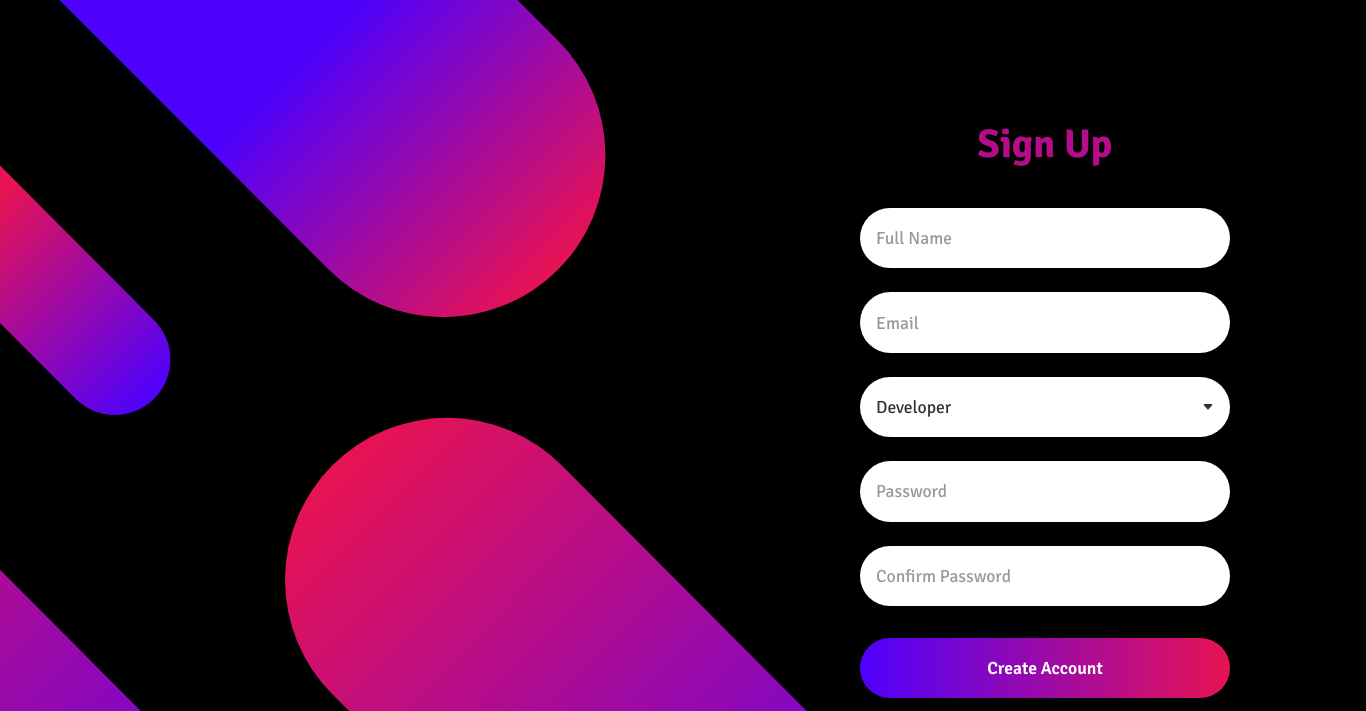
Scenario: Registration Page Tests › should show error when passwords do not match
Type "Test User" into the field named "name" at (1045, 238), box [860,208,1230,268]
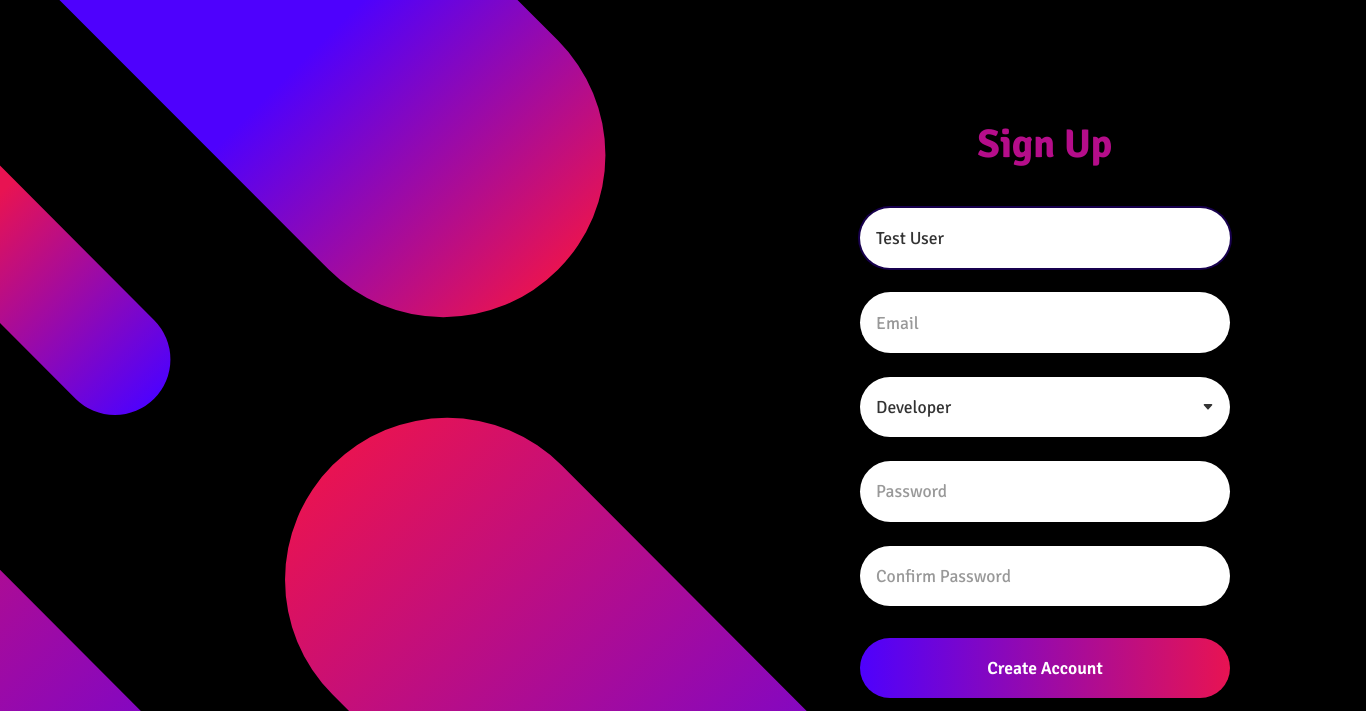
Type "test@example.com" into the field named "email" at (1045, 322), box [860,292,1230,352]
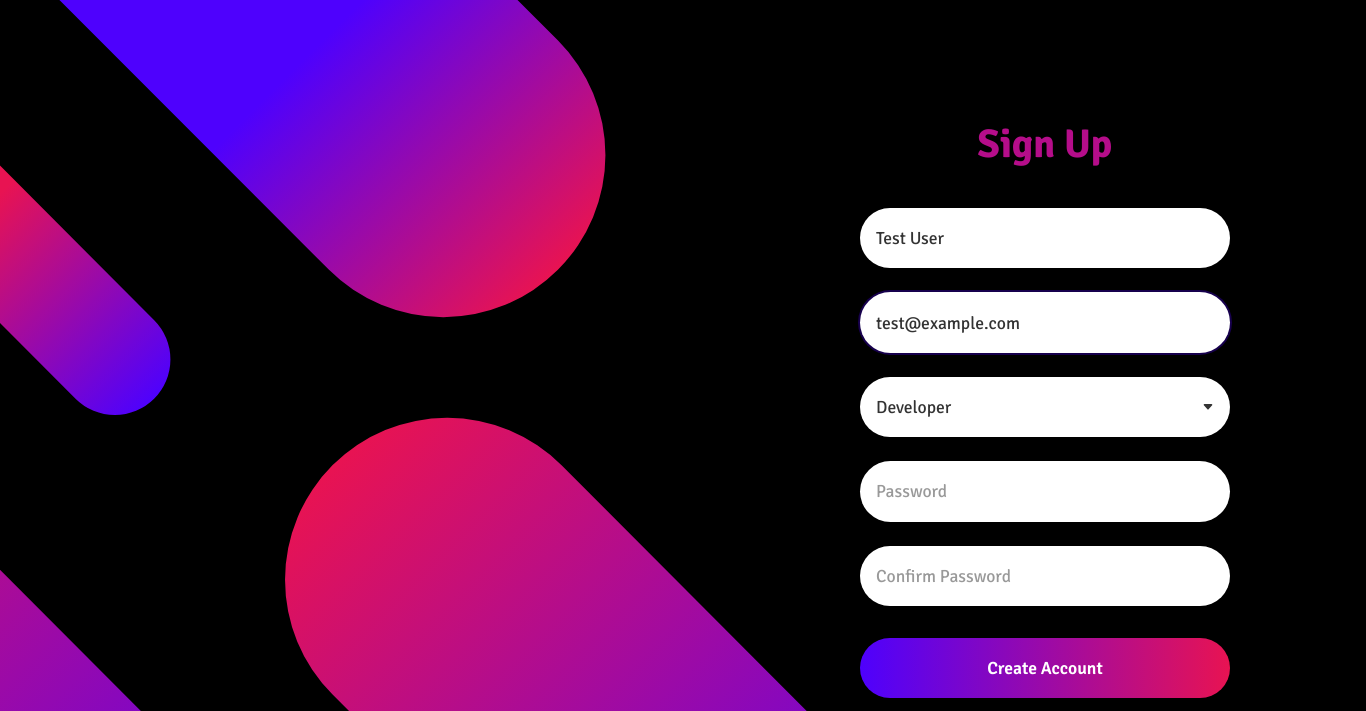
Type "password123" into the password field named "password" at (1045, 491), box [860,461,1230,521]
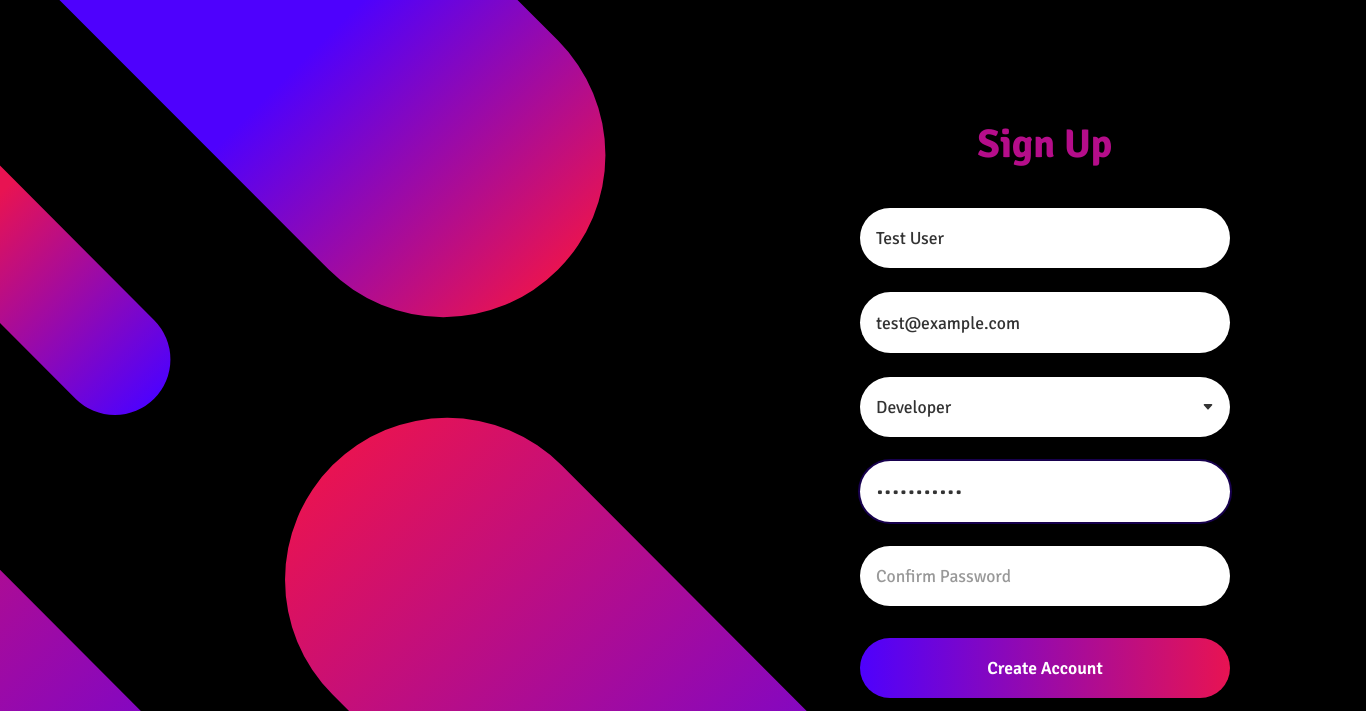
Type "differentpassword" into the password field named "confirmPassword" at (1045, 576), box [860,546,1230,606]
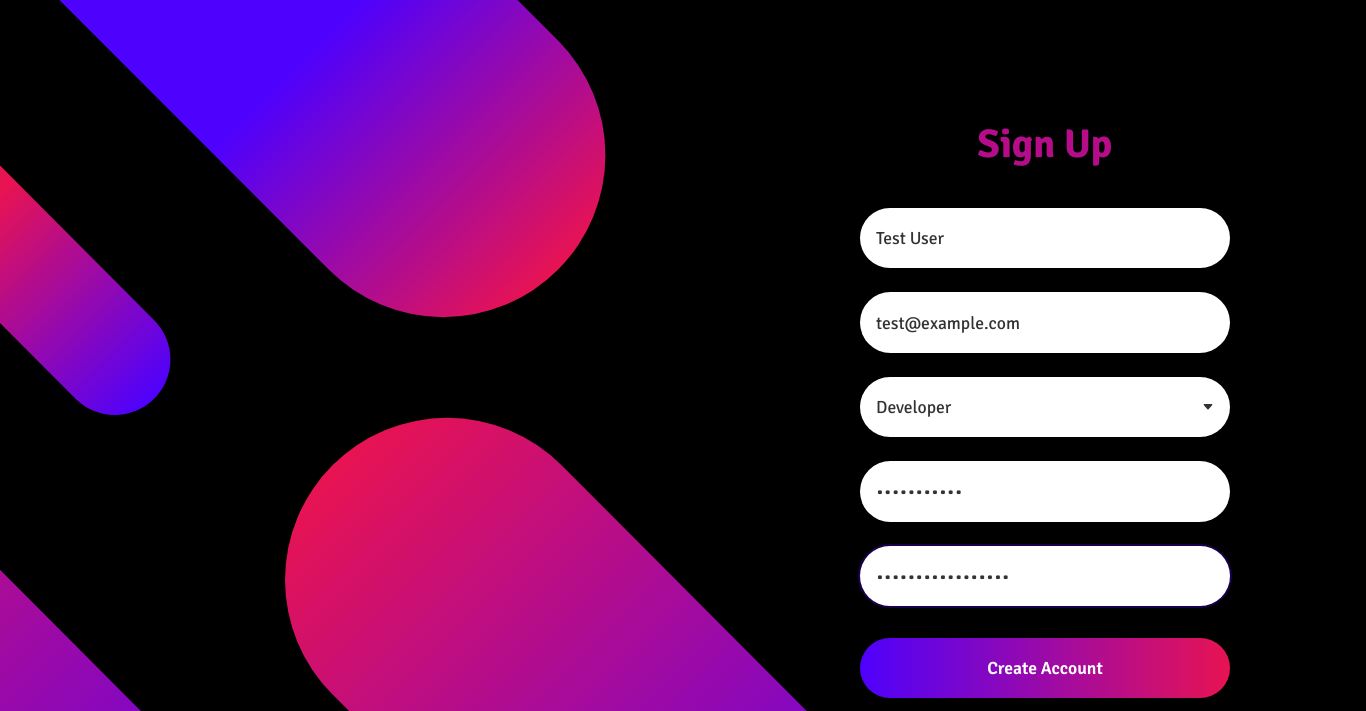
Click the submit button at (1045, 668), box [860,638,1230,698]
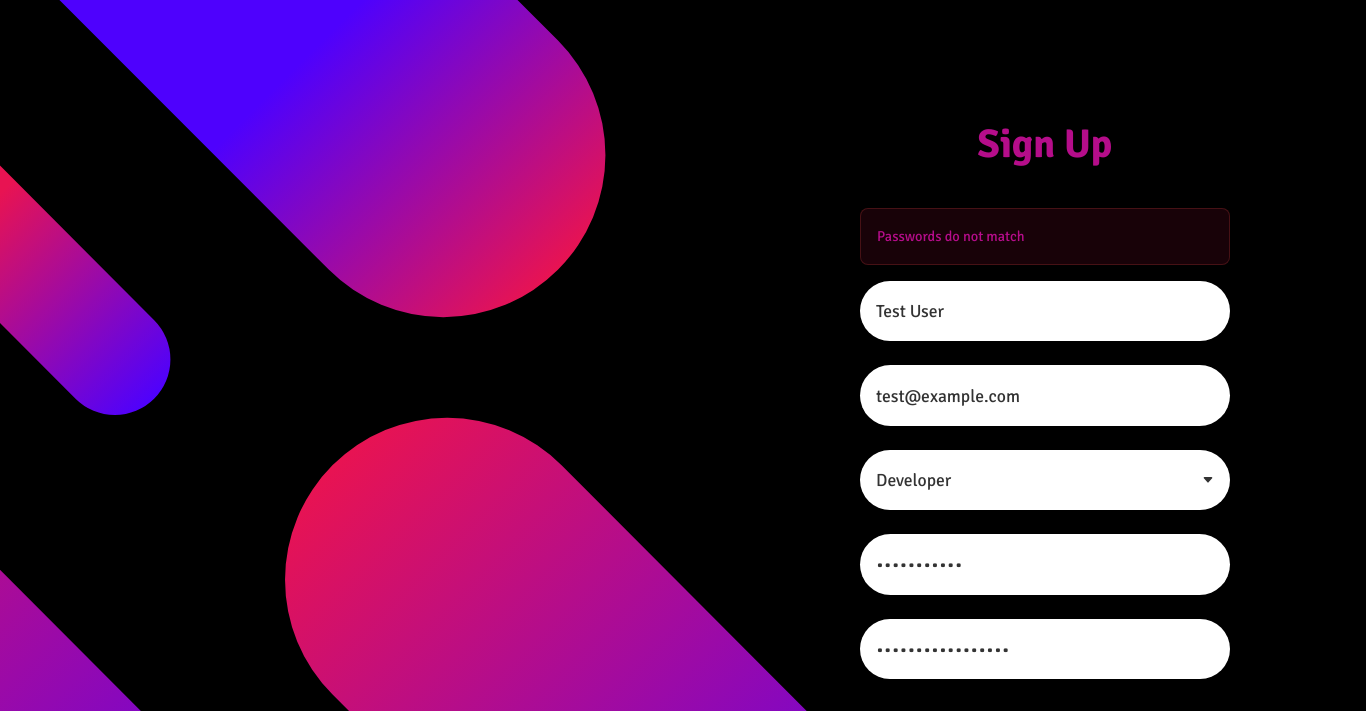
Expected: the text with class "error-message" reads "Passwords do not match", [877,227,1025,245]
